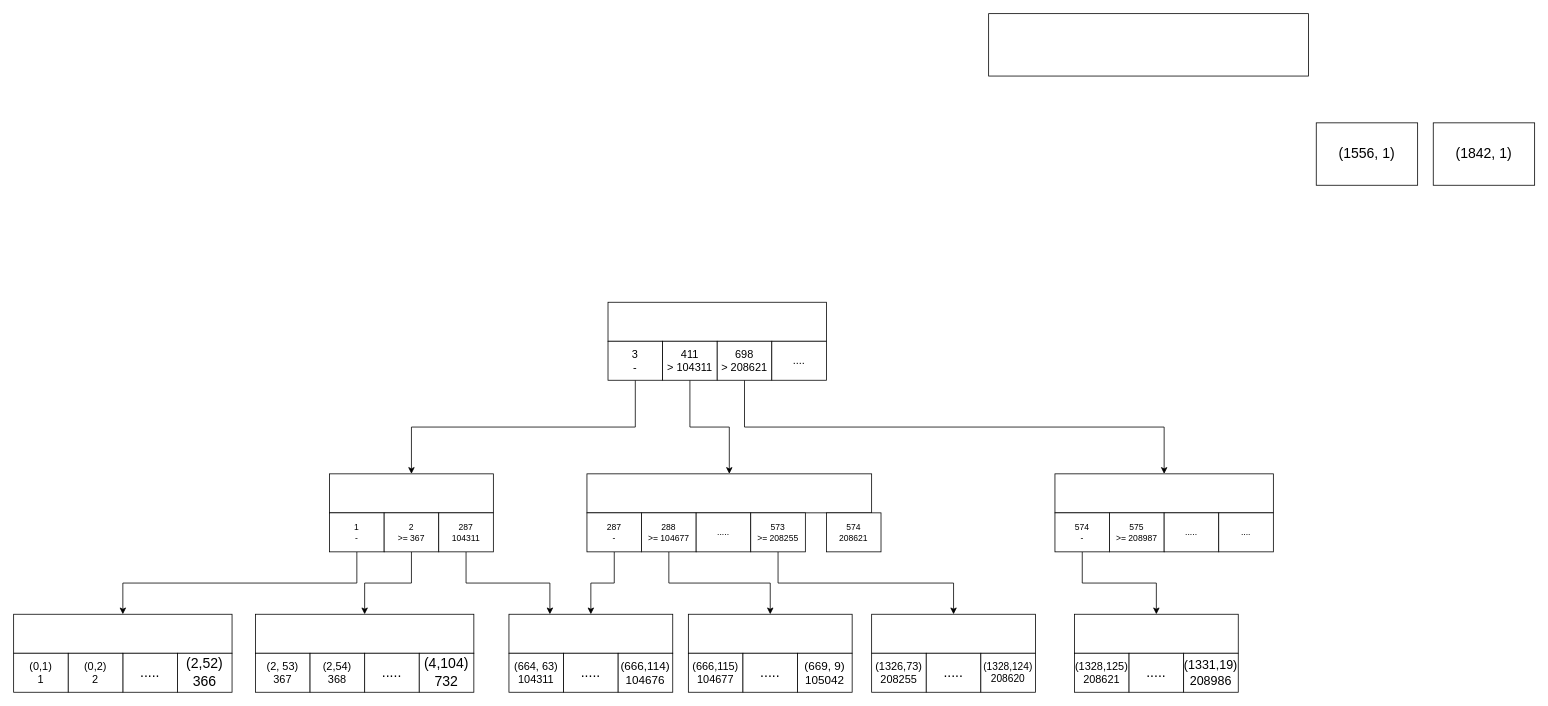
This 1548x706 diagram has some shape labels left out. The centre of each missing label's shape, as x and y in pixels:
412 Root: pixel 716 321
Page 1: pixel 122 633
Page 2: pixel 364 633
Page 287: pixel 590 633
Page 288: pixel 770 633
Page 3: pixel 411 493
Page 411: pixel 729 493
page 412 root: pixel 1148 44
Page 573: pixel 953 633
Page 574: pixel 1156 633
Page 698: pixel 1163 493
